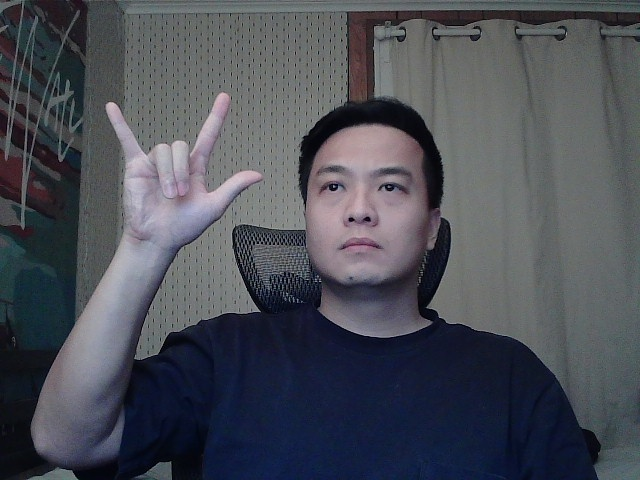I Love You: (87, 82, 276, 264)
